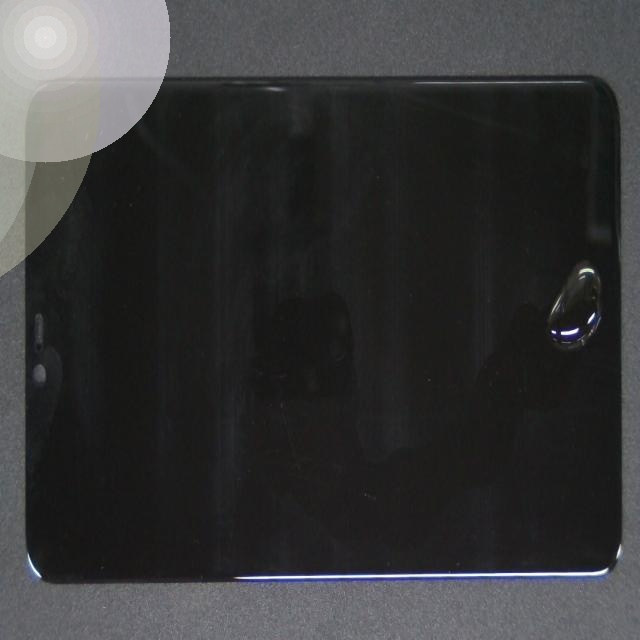oil: (321, 97, 640, 409)
